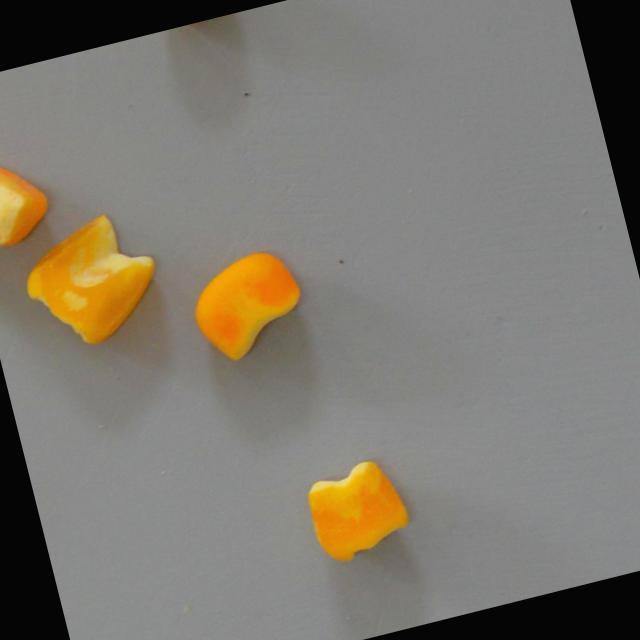no_canjicado: (13, 204, 170, 357), (183, 245, 310, 367), (298, 451, 418, 570), (0, 148, 57, 247)
